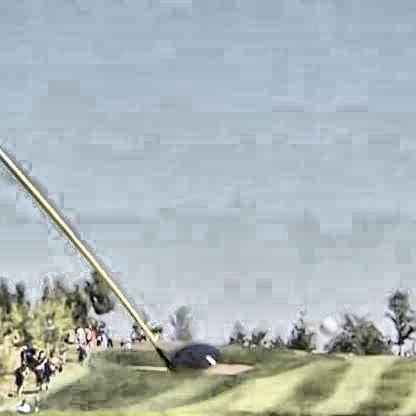golfball: (315, 314, 335, 333)
